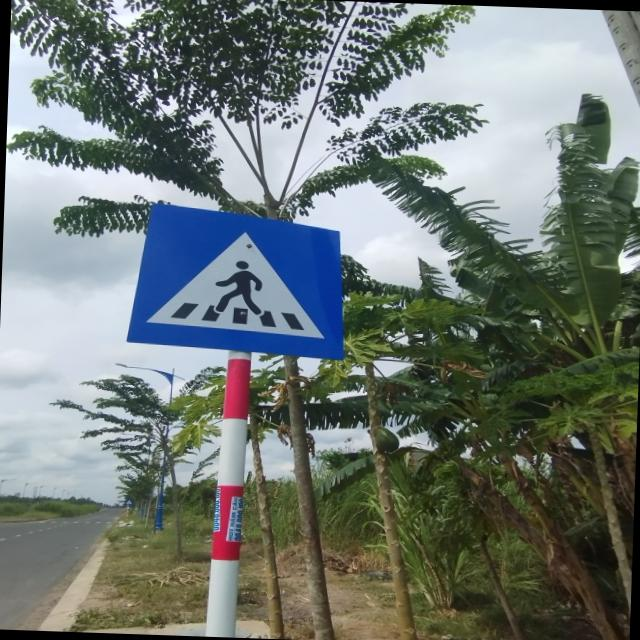Giao_Nhau_Duong_Uu_Tien: (125, 202, 347, 360)
